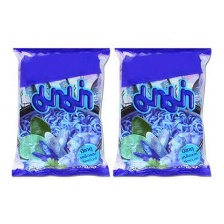snack: (3, 41, 113, 183), (108, 41, 215, 183)
